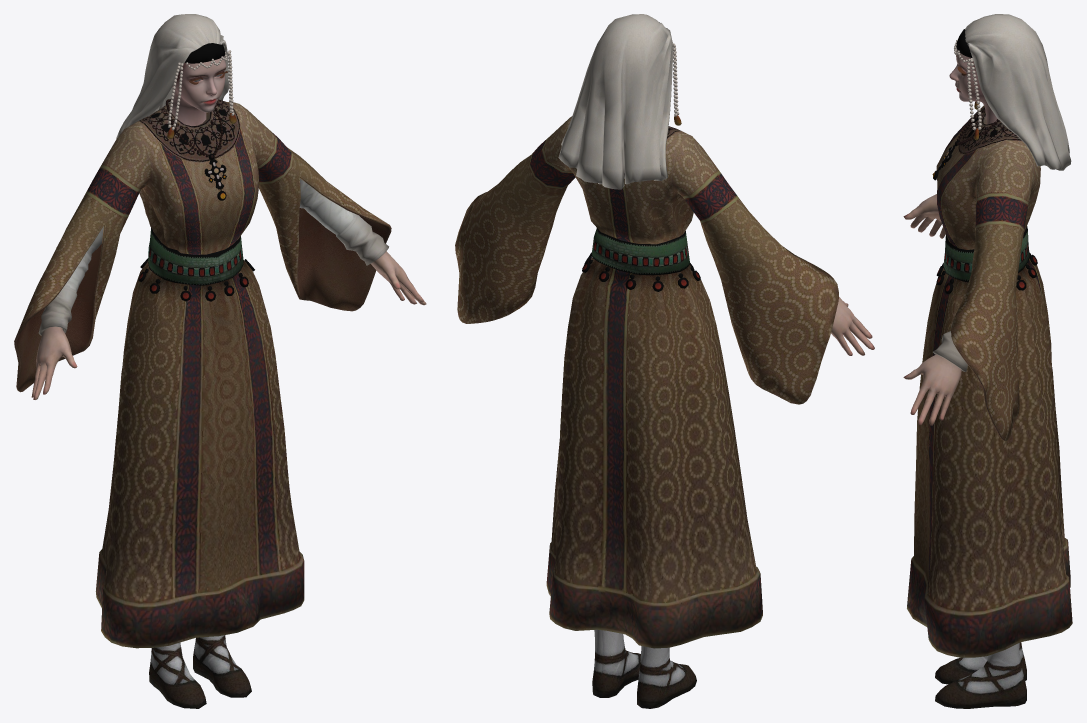
The model's file is princess_nun_royal_queen.glb.
The picture shows the model from 3 angles, left to right: view 1: azimuth 30°, elevation 25°; view 2: azimuth 150°, elevation 25°; view 3: azimuth 270°, elevation 25°; orthographic projection.
Visible parts, largest first — view 1: desirefx.me_002, desirefx.me_003; view 2: desirefx.me_002; view 3: desirefx.me_002, desirefx.me_003.
Part boxes in pixels (x1=…): desirefx.me_002: x1=14, y1=14, x2=426, y2=708; desirefx.me_003: x1=169, y1=56, x2=227, y2=126; desirefx.me_002: x1=455, y1=14, x2=874, y2=708; desirefx.me_002: x1=903, y1=14, x2=1072, y2=708; desirefx.me_003: x1=949, y1=49, x2=997, y2=124.
Bounding box in the file's own units: 0.6203 × 1 × 0.2279.
2 materials, 2 textured.
